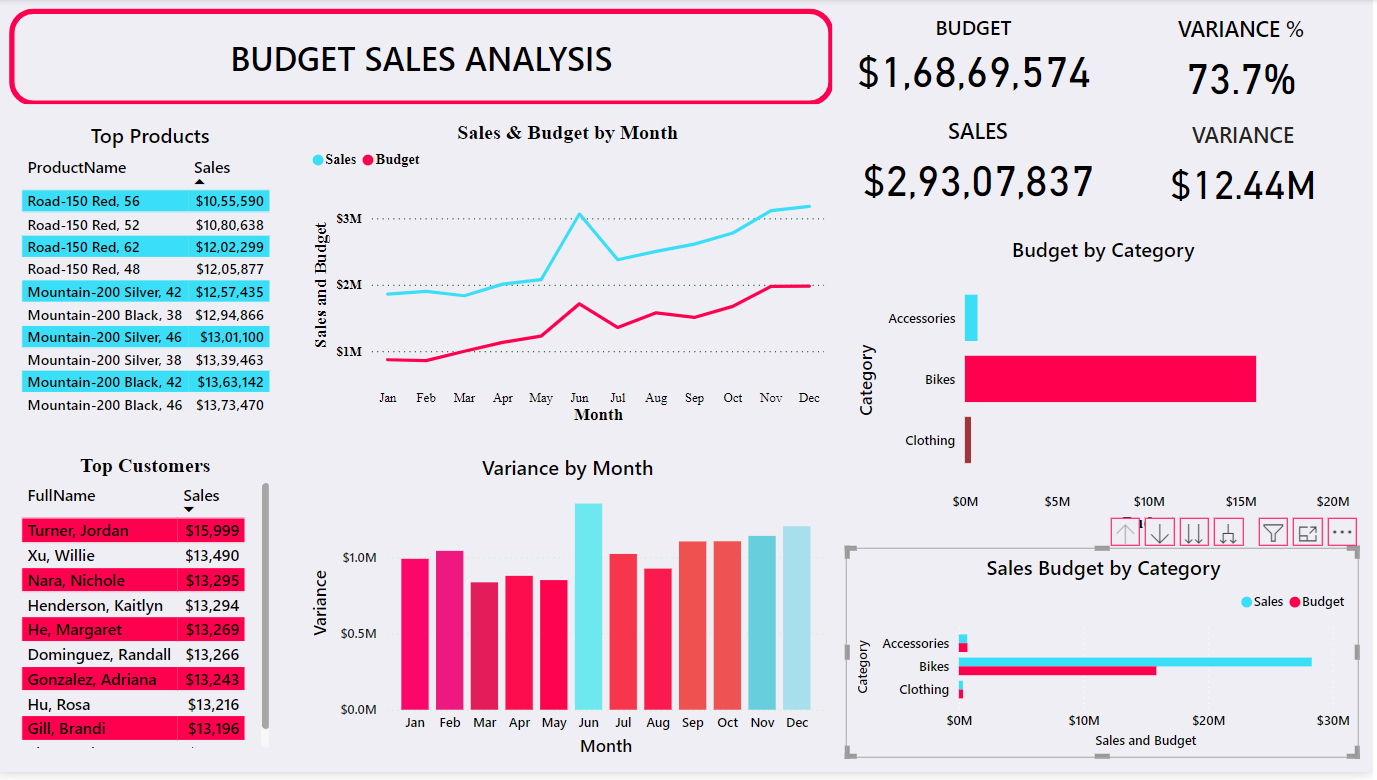

The page's visual inventory and layout, read from the dashboard file:
{"tool":"powerbi","page":{"name":"Page 1","canvas":[1280,720],"ordinal":0},"visuals":[{"type":"shape","box":[11,8.2,767.1,90.6],"z":0},{"type":"card","title":"BUDGET","fields":{"Values":["Budget.Budget"]},"box":[778,8.2,259.3,90.6],"z":1000},{"type":"card","title":"VARIANCE","fields":{"Values":["Budget.Variance"]},"box":[1048.4,107.4,218.4,96.5],"z":2000},{"type":"card","title":"VARIANCE %","fields":{"Values":["Budget.Variance%"]},"box":[1046.8,7.8,219.5,96.1],"z":3000},{"type":"tableEx","title":"Top Products","fields":{"Values":["Product.ProductName","Sales.Sales"]},"box":[10.4,107.8,262.3,296.1],"z":4000},{"type":"tableEx","title":"Top Customers","fields":{"Values":["Customer.FullName","Sales.Sales"]},"box":[10.4,416.9,253.2,288.3],"z":5000},{"type":"clusteredBarChart","fields":{"Category":["Product.Category","Product.SubCategory"],"Y":["Budget.Budget"]},"box":[789,214.1,477.5,290.9],"z":6000},{"type":"clusteredBarChart","title":"Sales Budget by Category","fields":{"Y":["Sales.Sales","Budget.Budget"],"Category":["Product.Category","Product.SubCategory"]},"box":[789,510.3,477.8,195.4],"z":7000},{"type":"lineChart","title":"Sales & Budget by Month","fields":{"Y":["Sales.Sales","Budget.Budget"],"Category":["Calendar.Month"]},"box":[281.8,107.8,497.4,296.1],"z":8000},{"type":"clusteredColumnChart","fields":{"Category":["Calendar.Month"],"Y":["Budget.Variance"]},"box":[281.8,416.9,497.4,296.1],"z":9000},{"type":"card","title":"SALES","fields":{"Values":["Sales.Sales"]},"box":[786.6,103.8,250.9,100.1],"z":10000}]}

Visuals, with their boxes in screenshot pixels (x1, y1, x2, y2), scaled from the page's 1280x720 canvas onto the 1377x780 screenshot:
shape: {"x1": 12, "y1": 9, "x2": 837, "y2": 107}
"BUDGET" card: {"x1": 837, "y1": 9, "x2": 1116, "y2": 107}
"VARIANCE" card: {"x1": 1128, "y1": 116, "x2": 1363, "y2": 221}
"VARIANCE %" card: {"x1": 1126, "y1": 8, "x2": 1362, "y2": 113}
"Top Products" tableEx: {"x1": 11, "y1": 117, "x2": 293, "y2": 438}
"Top Customers" tableEx: {"x1": 11, "y1": 452, "x2": 284, "y2": 764}
clusteredBarChart - Product.Category x Product.SubCategory: {"x1": 849, "y1": 232, "x2": 1362, "y2": 547}
"Sales Budget by Category" clusteredBarChart: {"x1": 849, "y1": 553, "x2": 1363, "y2": 765}
"Sales & Budget by Month" lineChart: {"x1": 303, "y1": 117, "x2": 838, "y2": 438}
clusteredColumnChart - Calendar.Month x Budget.Variance: {"x1": 303, "y1": 452, "x2": 838, "y2": 772}
"SALES" card: {"x1": 846, "y1": 112, "x2": 1116, "y2": 221}
